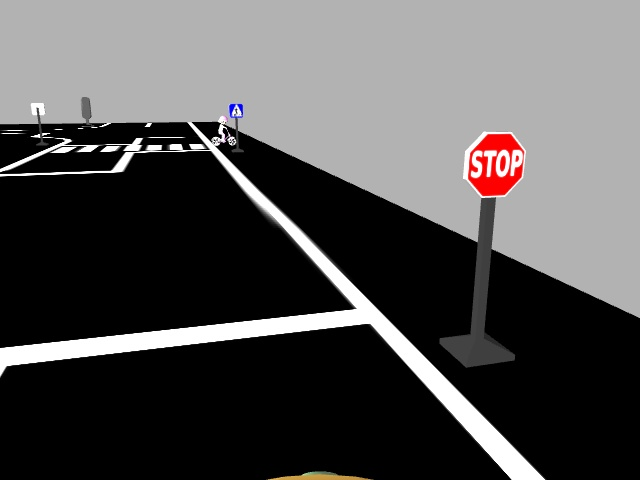Stop: (460, 127, 527, 199)
